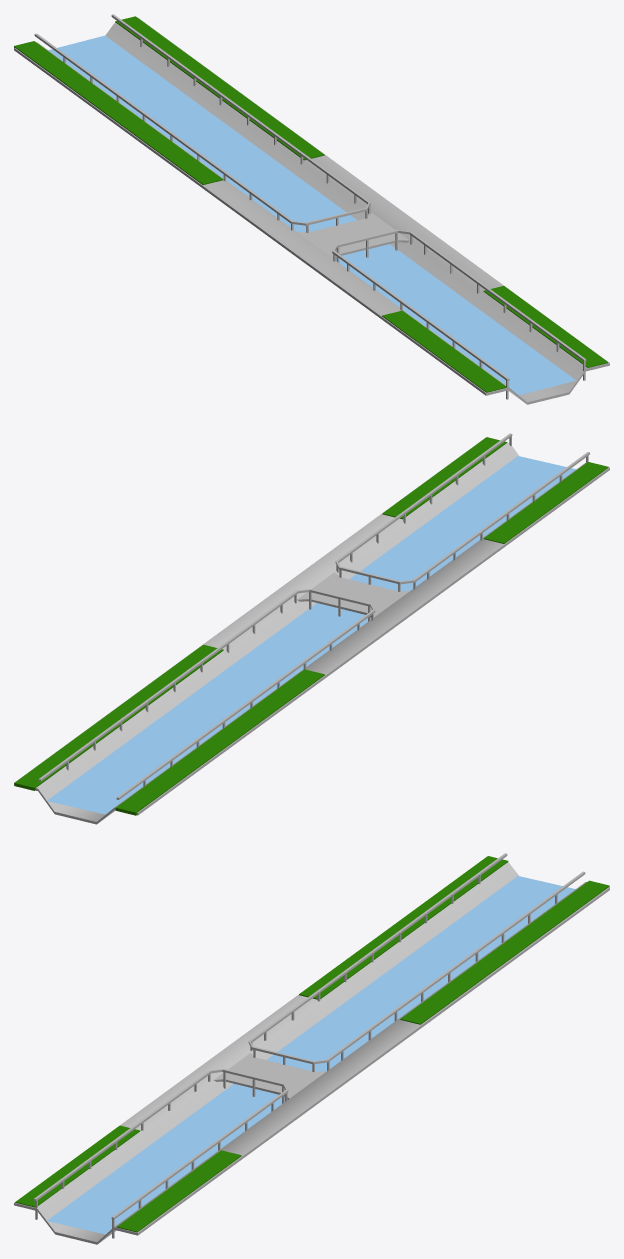
Rendered from waterway.fbx.
3 renders of one model, top to bottom at view 1: azimuth 30°, elevation 25°; view 2: azimuth 150°, elevation 25°; view 3: azimuth 330°, elevation 25°, orthographic.
Visible parts, largest first — view 1: pPlane632, pCube2157, pCube2159, pCube2162, pCube2232, pCube2161, pCube2174, pCube2234, pCube2163; view 2: pPlane632, pCube2157, pCube2159, pCube2162, pCube2232, pCube2161, pCube2174, pCube2234, pCube2163; view 3: pPlane632, pCube2157, pCube2162, pCube2159, pCube2232, pCube2163, pCube2174, pCube2234, pCube2161.
Boxes of the visible parts, x1=… form: pPlane632: x1=48, y1=35, x2=575, y2=395; pCube2157: x1=14, y1=18, x2=609, y2=404; pCube2159: x1=14, y1=41, x2=223, y2=184; pCube2162: x1=115, y1=16, x2=324, y2=160; pCube2232: x1=34, y1=14, x2=370, y2=225; pCube2161: x1=382, y1=310, x2=506, y2=392; pCube2174: x1=297, y1=213, x2=409, y2=258; pCube2234: x1=332, y1=230, x2=586, y2=381; pCube2163: x1=483, y1=286, x2=608, y2=367; pPlane632: x1=46, y1=456, x2=575, y2=814; pCube2157: x1=14, y1=437, x2=609, y2=824; pCube2159: x1=115, y1=669, x2=324, y2=815; pCube2162: x1=14, y1=644, x2=223, y2=790; pCube2232: x1=38, y1=589, x2=375, y2=799; pCube2161: x1=483, y1=462, x2=608, y2=543; pCube2174: x1=297, y1=572, x2=409, y2=617; pCube2234: x1=335, y1=433, x2=589, y2=584; pCube2163: x1=382, y1=437, x2=507, y2=519; pPlane632: x1=46, y1=876, x2=575, y2=1234; pCube2157: x1=14, y1=862, x2=609, y2=1244; pCube2162: x1=400, y1=880, x2=609, y2=1024; pCube2159: x1=299, y1=856, x2=508, y2=999; pCube2232: x1=248, y1=853, x2=585, y2=1064; pCube2163: x1=116, y1=1150, x2=241, y2=1232; pCube2174: x1=213, y1=1053, x2=326, y2=1099; pCube2234: x1=34, y1=1069, x2=288, y2=1219; pCube2161: x1=15, y1=1125, x2=140, y2=1207.
Size of the model in its own units: 6.08 by 1.46 by 40.28.
1 material, 1 textured.
